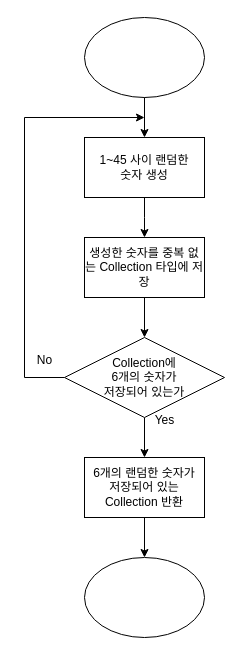
This 242x655 diagram has some shape labels left out. Each missing label, with the box of its shape:
시작: (84, 16, 204, 98)
종료: (84, 556, 204, 638)
